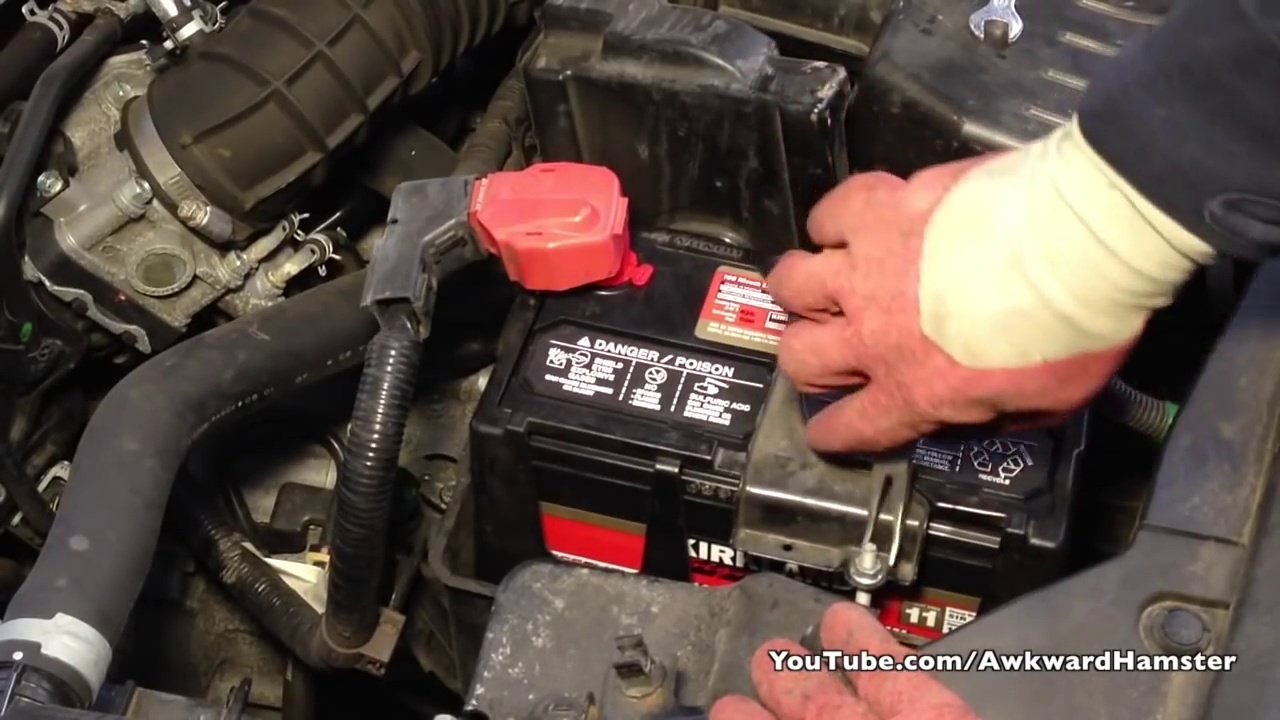battery: (476, 198, 1078, 545)
pos_connected: (443, 178, 642, 308)
